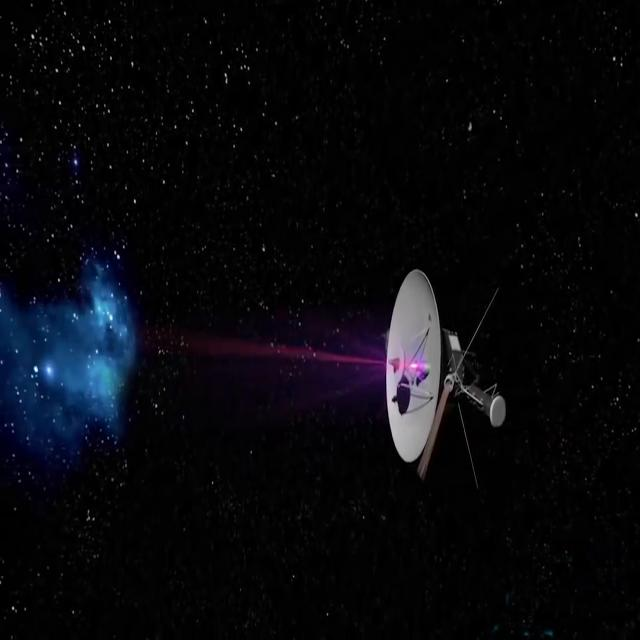satellite: (361, 234, 518, 508)
